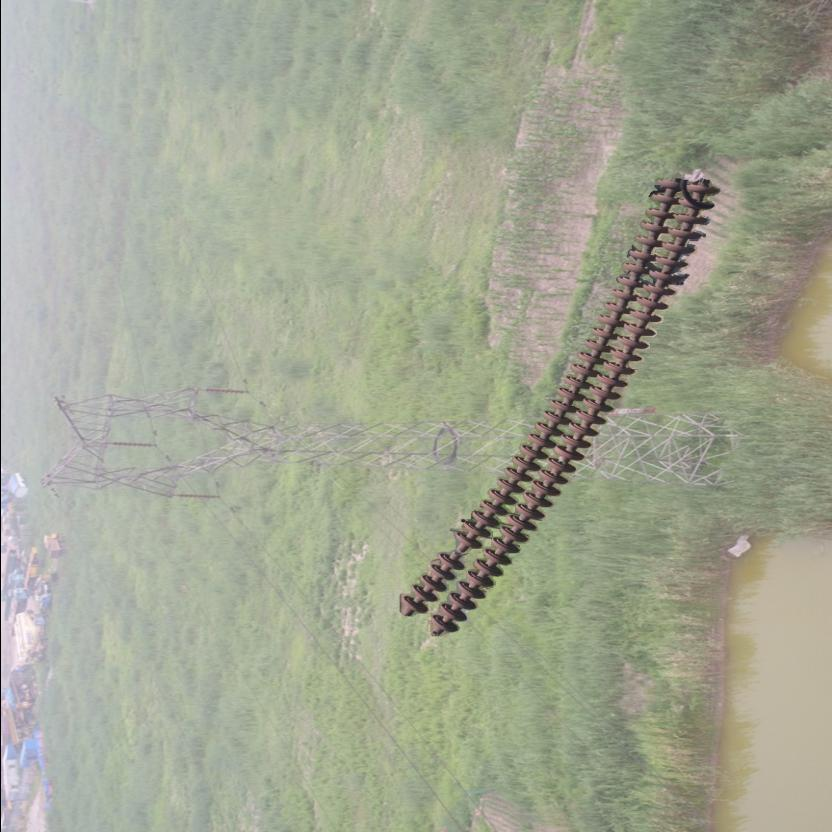defect: (435, 526, 480, 570)
